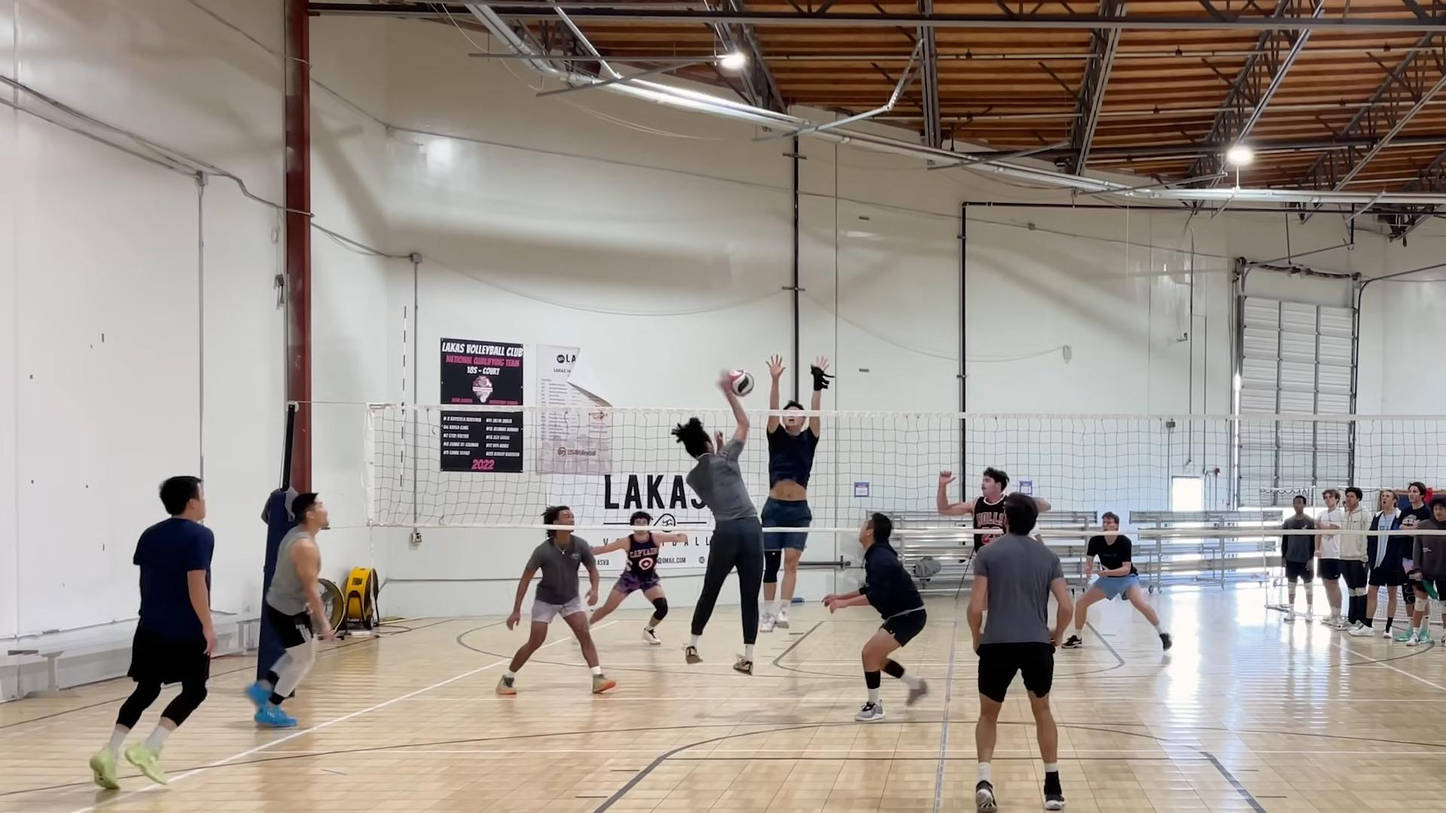Attack: (671, 367, 763, 681)
Block: (758, 344, 835, 638)
Player: (90, 476, 215, 789), (968, 493, 1072, 812), (823, 513, 927, 721), (247, 493, 332, 727), (496, 528, 615, 695), (1063, 512, 1172, 650), (590, 530, 687, 645), (937, 468, 1008, 553)
ball: (721, 367, 757, 401)
